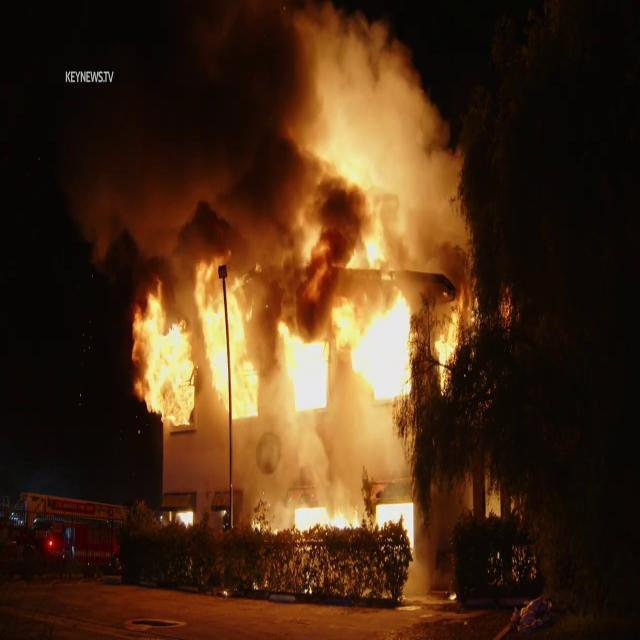Fire: (130, 2, 450, 506)
